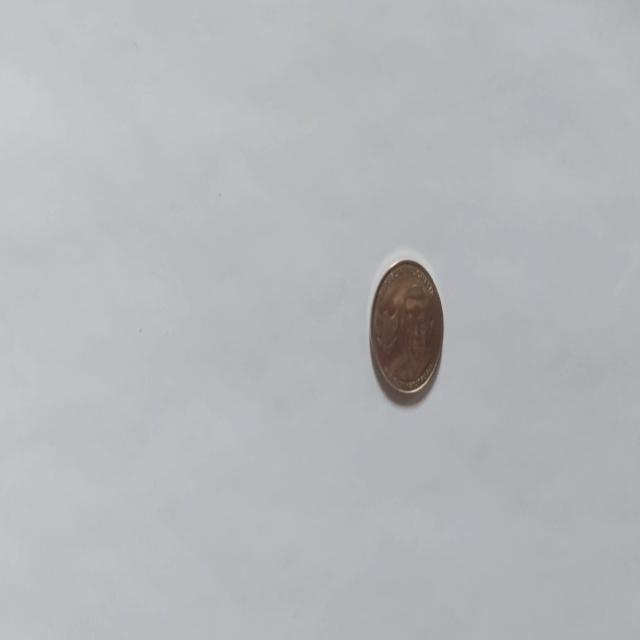seribu rupiah koin: (368, 254, 444, 399)
